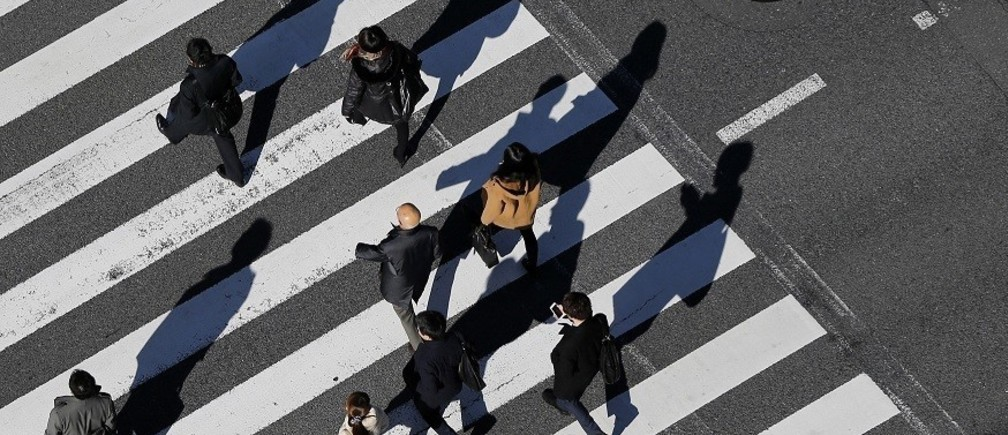person: (353, 199, 437, 351)
